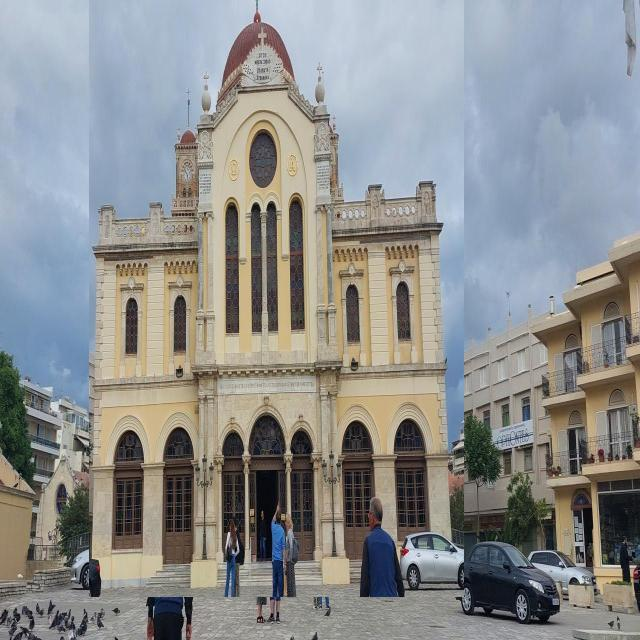Agios Minas: (90, 1, 465, 598)
